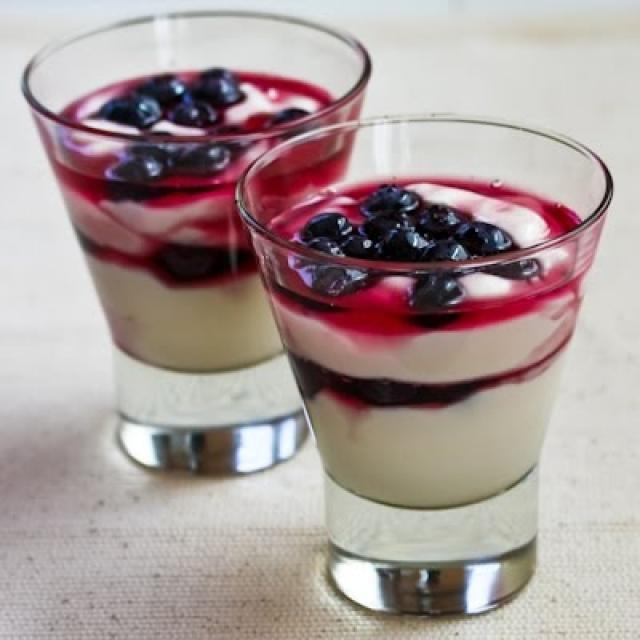蛋糕甜品: (18, 21, 619, 610)
